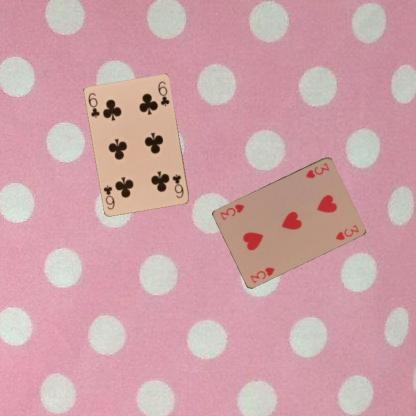3h: (248, 264, 276, 284), (303, 160, 331, 179)
6c: (86, 91, 101, 119), (170, 172, 185, 199)
